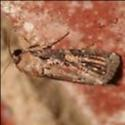army worm adult: (2, 31, 123, 88)
